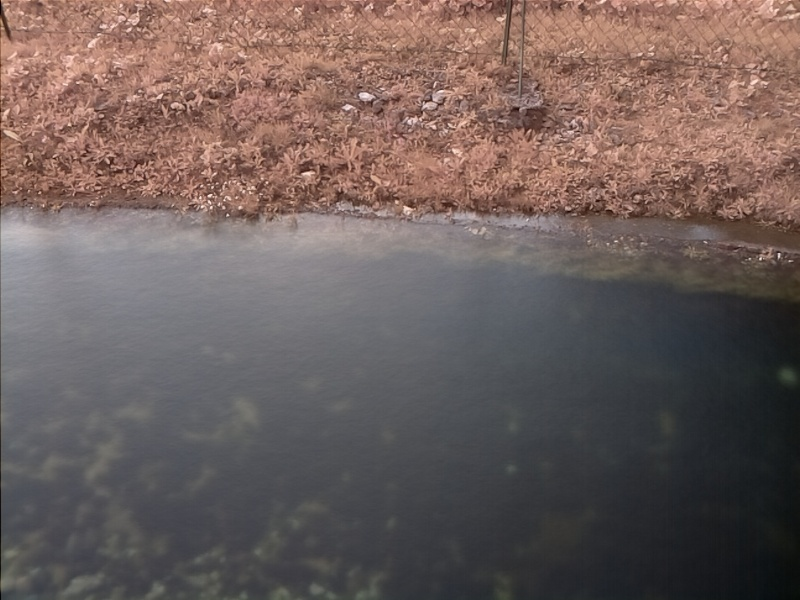Water: (1, 197, 800, 598)
